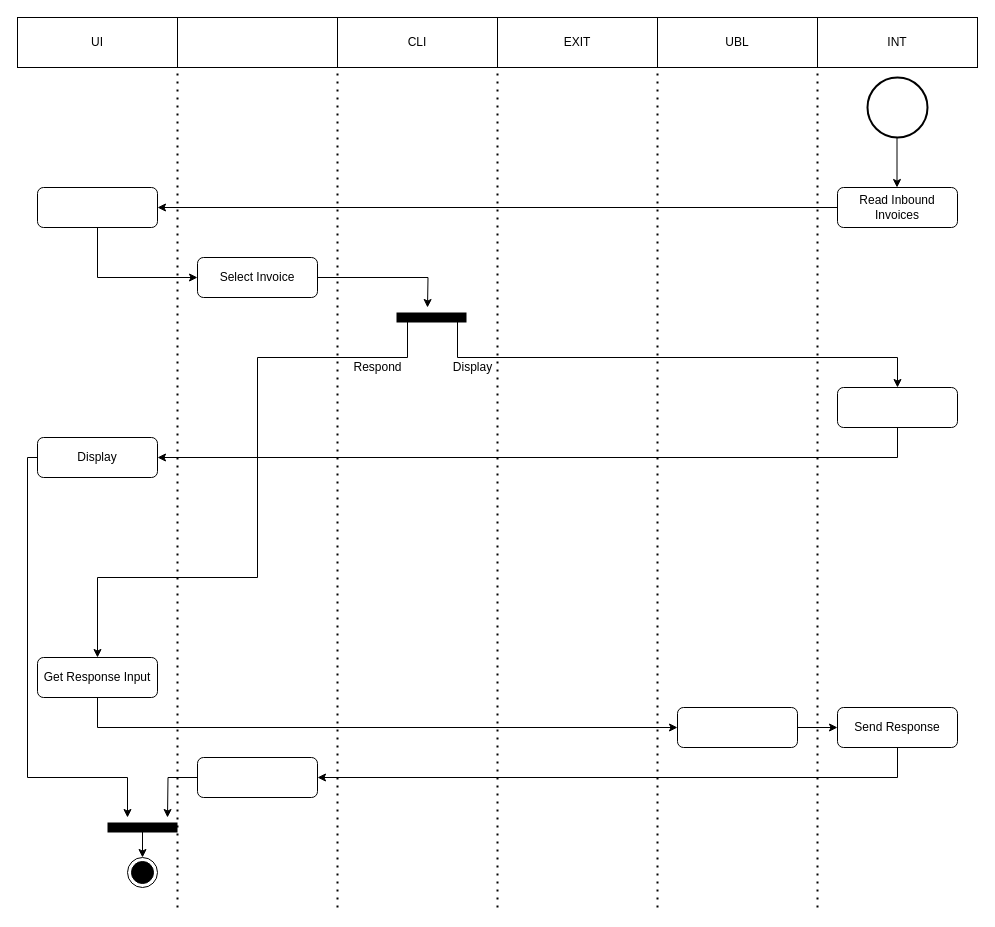
Some shapes in this 995 by 927 pixel diagram are drawn without their labels. Each missing label, with the box of its shape:
Get sent document: (836, 386, 958, 428)
HOST: (176, 16, 338, 68)
List Invoices: (36, 186, 158, 228)
Serialize (Nest) Response: (676, 706, 798, 748)
Update Status: (196, 756, 318, 798)
